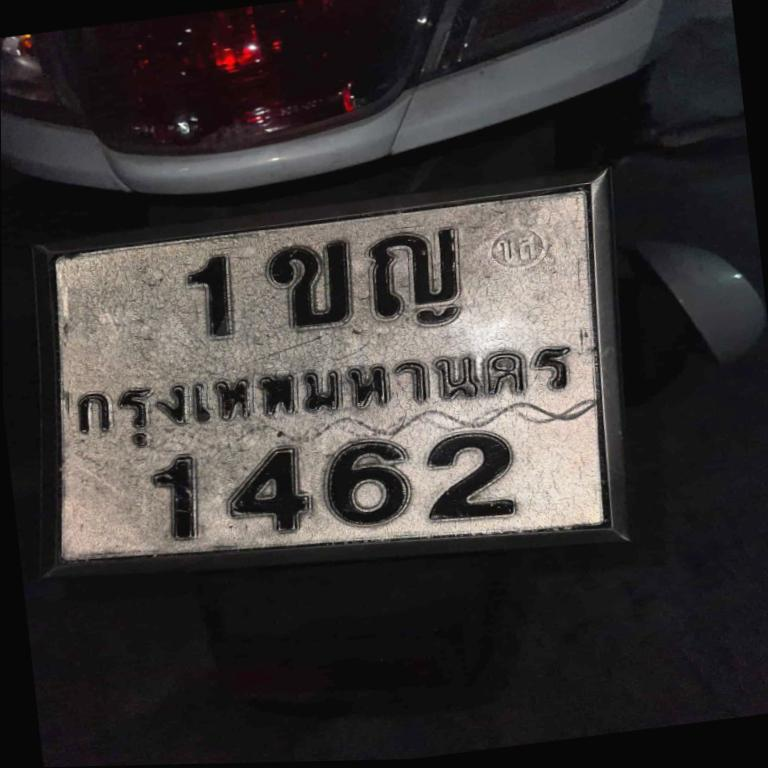license plate: (21, 177, 638, 605)
